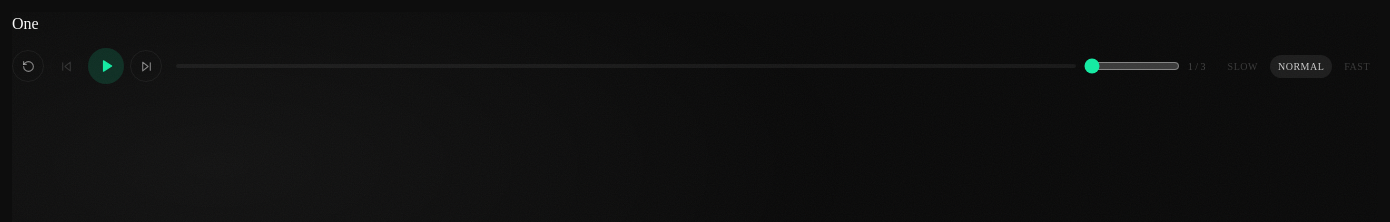
it: AnimationPlayer scrub › scrubs via slider and announces narration
Set the slider named "animation progress" to "2" at (1172, 66), box [1084, 58, 1180, 74]
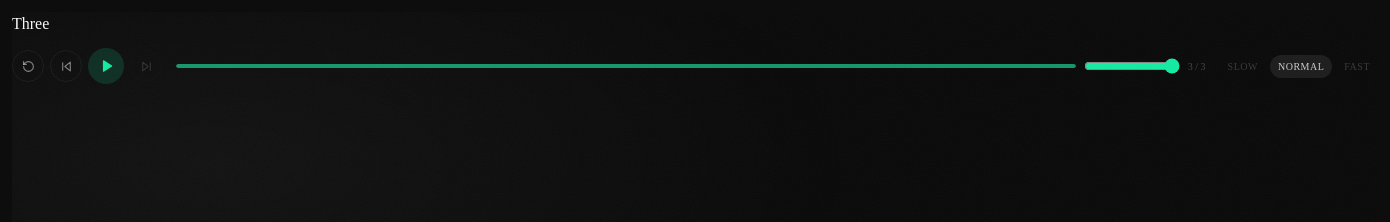
Expected: the text "Three" is shown, [12, 15, 49, 32]
